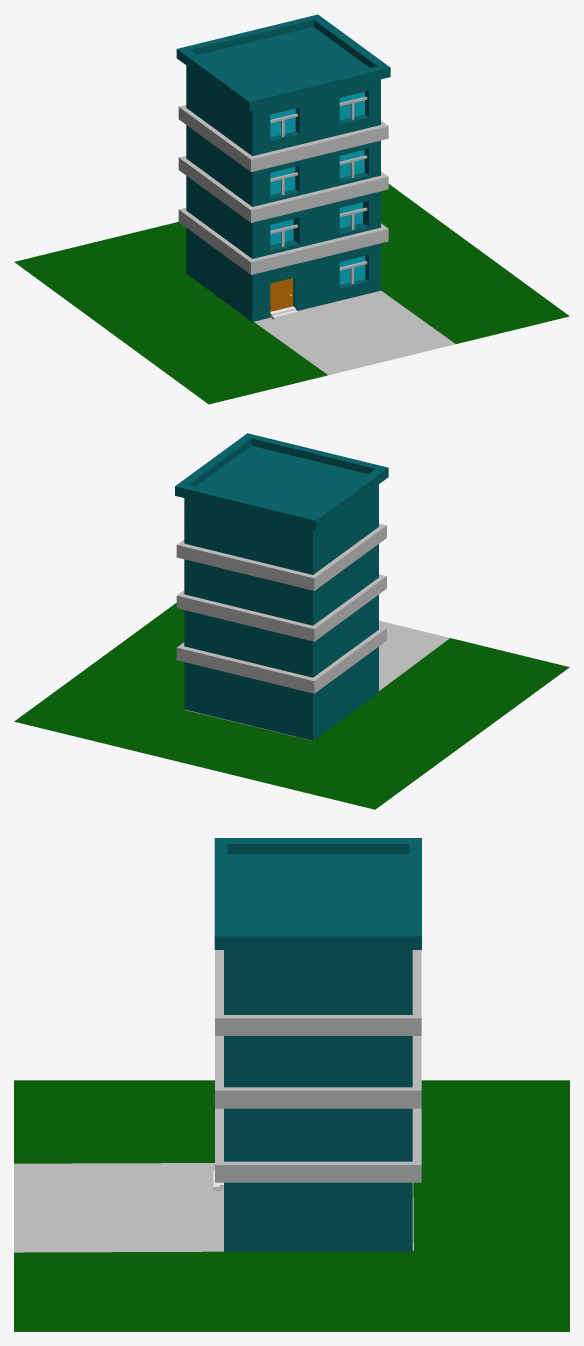
Rendered from house_blue2.obj.
The picture shows the model from 3 angles, top to bottom: view 1: azimuth 30°, elevation 25°; view 2: azimuth 150°, elevation 25°; view 3: azimuth 270°, elevation 25°; orthographic projection. The views are drawn at different scales.
Visible parts, largest first — view 1: Cube.527_Cube.525, Plane.103_Plane.105, Cube.526_Cube.524, Plane.104_Plane.106, Cube.524_Cube.522, Cube.522_Cube.520, Cube.525_Cube.523; view 2: Cube.527_Cube.525, Plane.103_Plane.105, Cube.526_Cube.524, Plane.104_Plane.106; view 3: Plane.103_Plane.105, Cube.527_Cube.525, Plane.104_Plane.106, Cube.526_Cube.524.
Part boxes in pixels (box(x1,y1,x2,y2)): Cube.527_Cube.525: box(176, 14, 390, 321); Plane.103_Plane.105: box(14, 184, 569, 404); Cube.526_Cube.524: box(178, 105, 388, 274); Plane.104_Plane.106: box(254, 290, 455, 375); Cube.524_Cube.522: box(270, 91, 365, 284); Cube.522_Cube.520: box(270, 96, 367, 246); Cube.525_Cube.523: box(270, 278, 293, 311); Cube.527_Cube.525: box(175, 433, 388, 740); Plane.103_Plane.105: box(14, 603, 569, 809); Cube.526_Cube.524: box(176, 523, 386, 693); Plane.104_Plane.106: box(185, 620, 449, 740); Plane.103_Plane.105: box(14, 1080, 569, 1331); Cube.527_Cube.525: box(214, 838, 421, 1251); Plane.104_Plane.106: box(14, 1163, 413, 1252); Cube.526_Cube.524: box(215, 950, 421, 1182).
Size of the model in its own units: 23.65 by 14.03 by 22.09.
